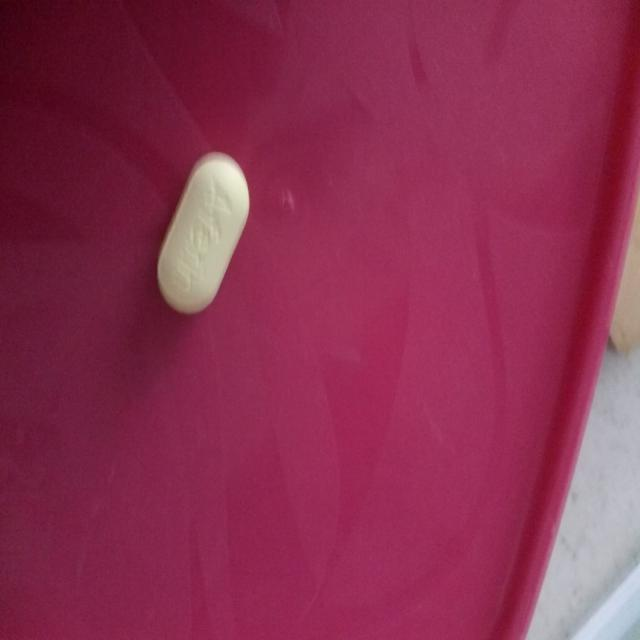pills: (146, 132, 258, 316)
